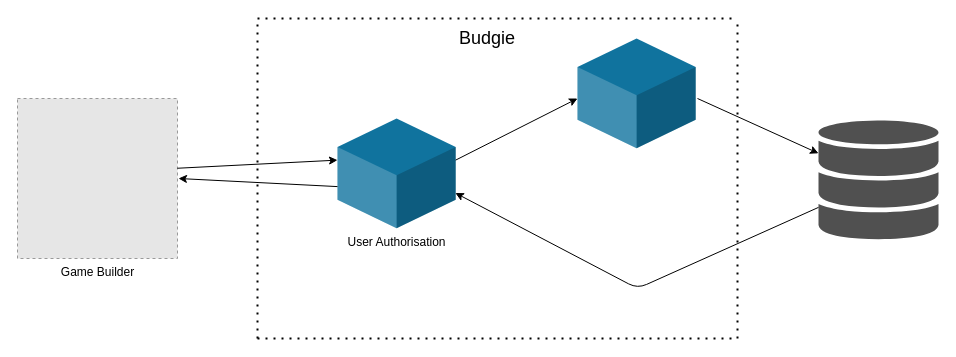
This 956x357 diagram has some shape labels left out. Grey dashed boxes stand in for pictures. The centre of each missing label's shape, as x and y in pixels:
Model Validation: pixel 636 93
Spotorama DB: pixel 878 180
